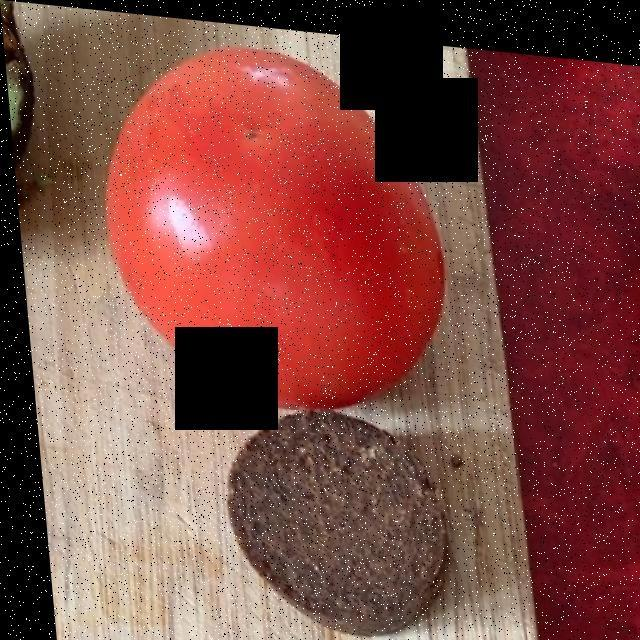bread: (223, 412, 430, 623)
tomato: (108, 48, 435, 394)
